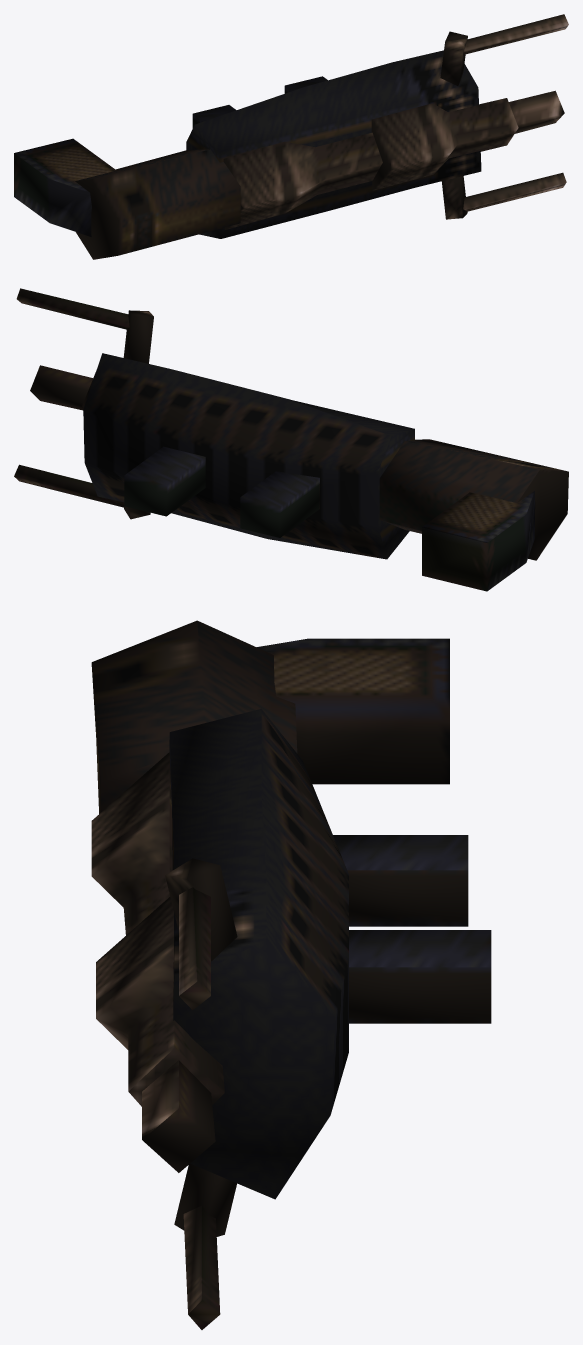
File: g_light.gltf
3 views of the same model, one above another, from view 1: azimuth 30°, elevation 25°; view 2: azimuth 150°, elevation 25°; view 3: azimuth 270°, elevation 25° (orthographic). The views are drawn at different scales.
Visible parts, largest first — view 1: mesh0_noesis_meshnode_0000; view 2: mesh0_noesis_meshnode_0000; view 3: mesh0_noesis_meshnode_0000.
Part boxes in pixels (x1,y1,x2,y2): mesh0_noesis_meshnode_0000: (14,14,568,259); mesh0_noesis_meshnode_0000: (14,288,568,591); mesh0_noesis_meshnode_0000: (91,620,491,1329).
Bounding box in the file's own units: 34.9 × 12.58 × 12.4.
Materials: 1 (1 with a texture image).
